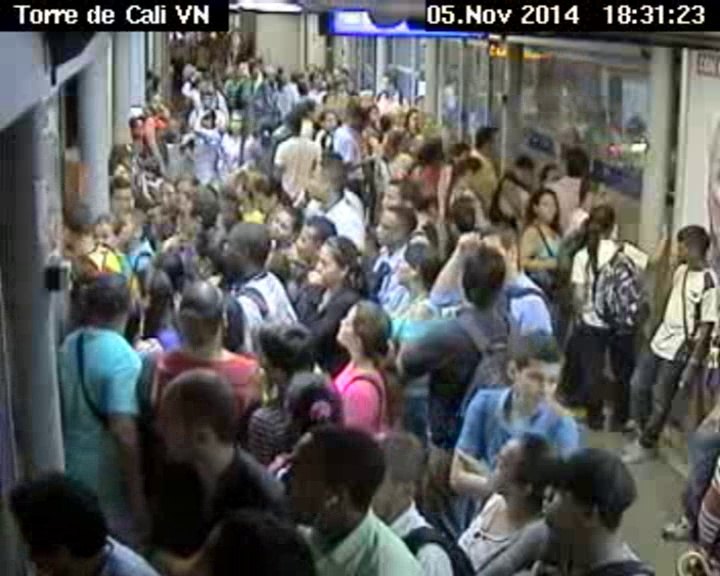person: (266, 419, 385, 534), (533, 440, 638, 565), (3, 463, 110, 576), (152, 365, 242, 476), (191, 507, 327, 576), (475, 425, 571, 521), (346, 424, 429, 527), (496, 327, 566, 426), (171, 277, 236, 359), (273, 366, 346, 439), (332, 290, 396, 368), (256, 320, 324, 387), (73, 269, 138, 334), (454, 242, 506, 312), (220, 218, 275, 283), (311, 233, 364, 294), (394, 243, 445, 301), (667, 220, 717, 273), (56, 199, 99, 255), (291, 215, 338, 265), (373, 203, 419, 252), (305, 160, 349, 210), (175, 193, 217, 241), (379, 177, 427, 214), (145, 248, 181, 297), (269, 205, 305, 251), (89, 212, 125, 256), (527, 186, 562, 228), (582, 199, 618, 238), (561, 145, 596, 183), (101, 175, 134, 215), (447, 195, 478, 236), (474, 120, 503, 160), (122, 206, 147, 248), (446, 160, 479, 187), (175, 171, 199, 204), (512, 153, 536, 186), (282, 108, 304, 140), (314, 106, 341, 132), (347, 104, 372, 131), (255, 114, 276, 146), (403, 103, 424, 133), (225, 109, 249, 135), (159, 176, 178, 207), (144, 87, 165, 115), (449, 143, 475, 165), (417, 141, 441, 164), (197, 103, 217, 129), (126, 115, 147, 138), (290, 67, 311, 89), (378, 70, 397, 93), (246, 63, 258, 75)
